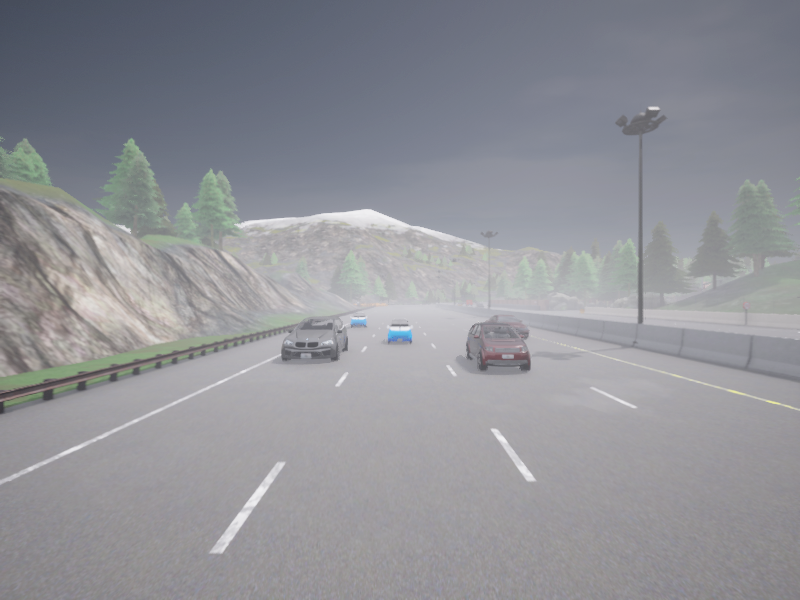vehicle: (465, 323, 530, 370), (281, 316, 348, 360), (485, 314, 529, 338), (387, 319, 412, 343), (350, 312, 367, 327), (475, 303, 483, 307), (466, 300, 472, 305), (458, 302, 462, 305), (475, 301, 479, 303), (462, 302, 465, 304)
